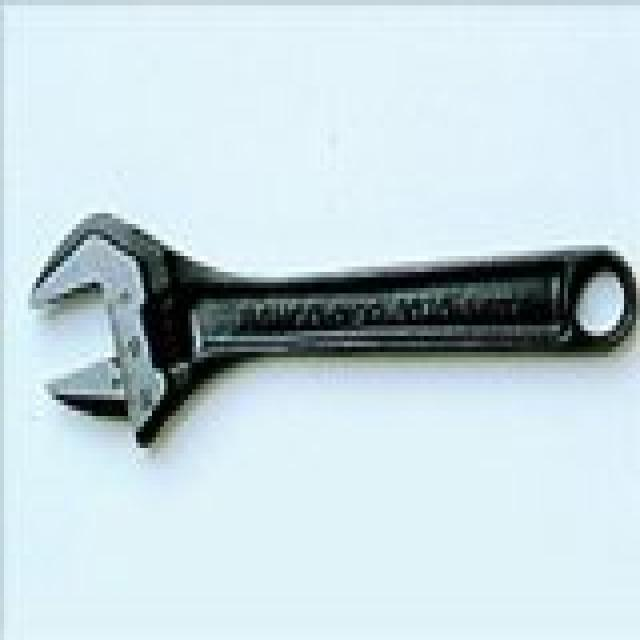wrench: (43, 171, 470, 461)
